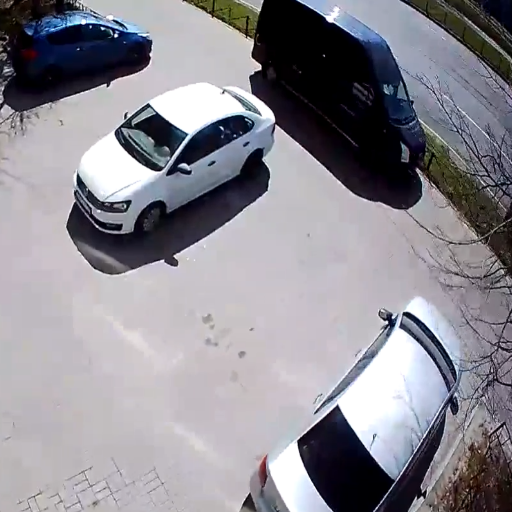Car: (247, 296, 464, 510), (69, 80, 274, 236), (252, 2, 425, 173), (8, 10, 152, 87)
